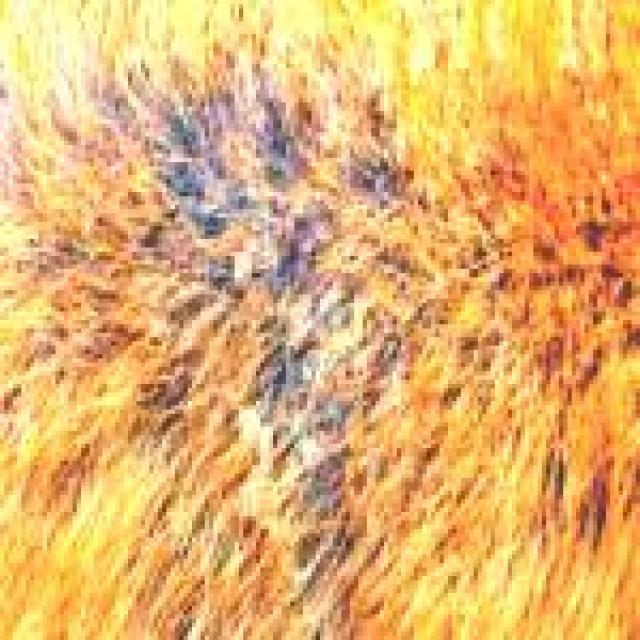fungal infection: (124, 90, 430, 279), (210, 301, 417, 401), (268, 406, 357, 583), (448, 227, 640, 306), (525, 434, 620, 558), (12, 300, 144, 371), (43, 433, 100, 550), (521, 326, 640, 382), (452, 150, 558, 210), (146, 362, 207, 460), (24, 223, 112, 283), (452, 320, 512, 386), (569, 182, 640, 225)
